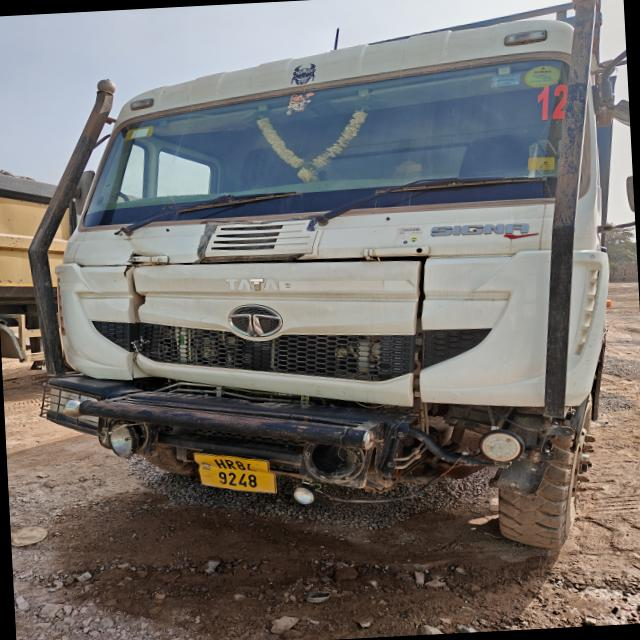license_plate: (195, 453, 276, 493)
